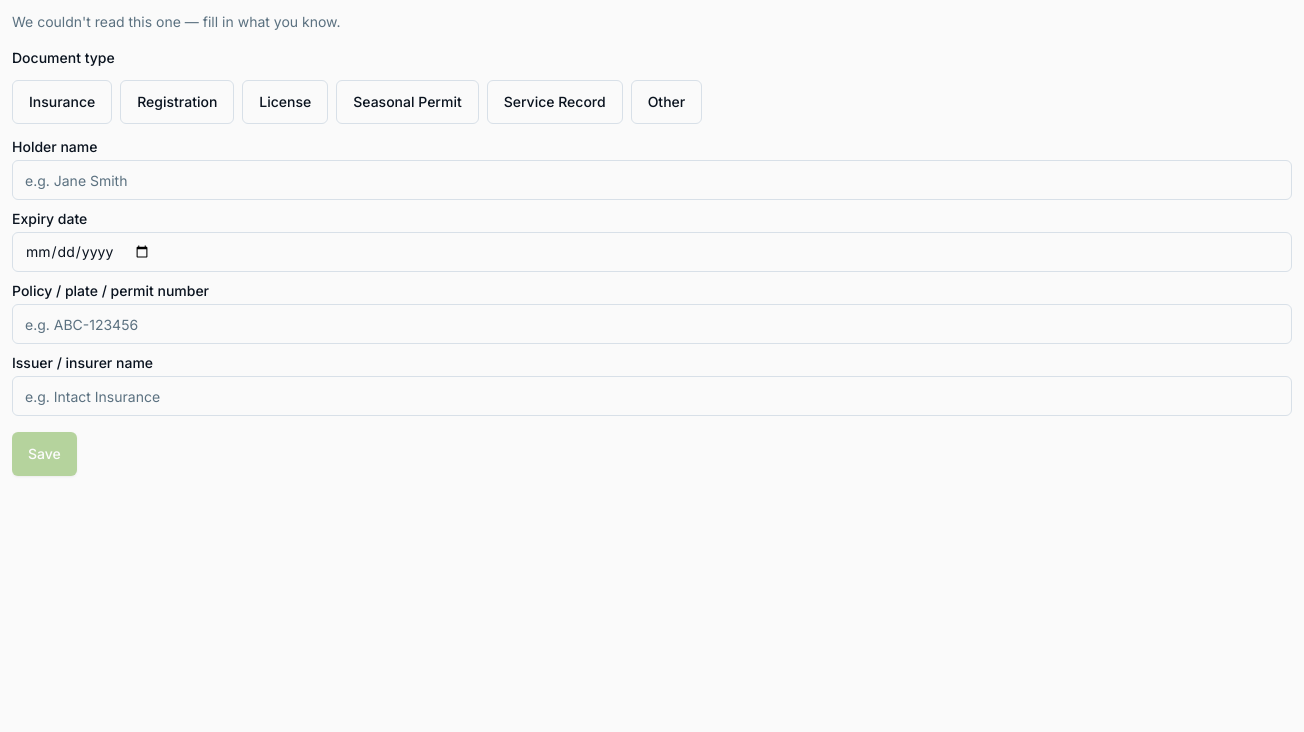
Test: ManualEntryForm › shows error message when saveDocument returns failure
This screenshot has width=1304, height=732.
Click the button "Insurance" at (62, 102), box [12, 80, 112, 124]
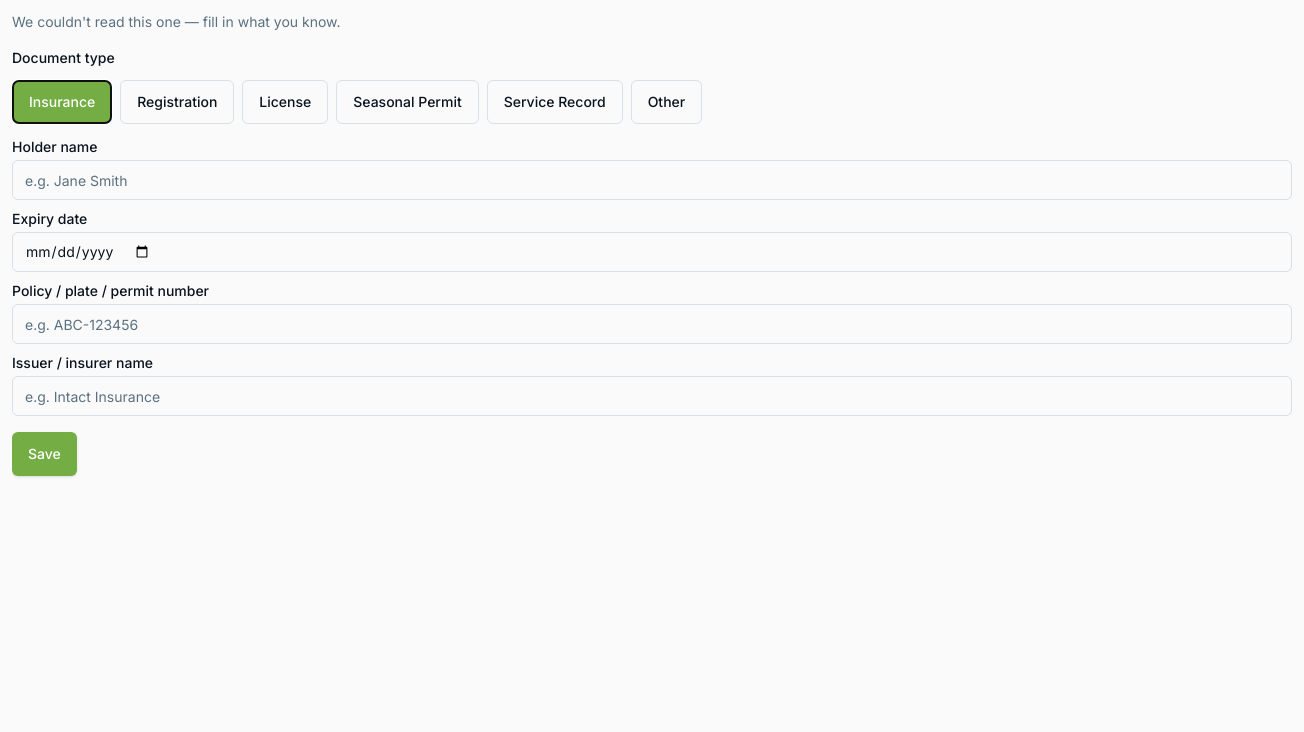
Click the button "Save" at (44, 454), box [12, 432, 77, 476]
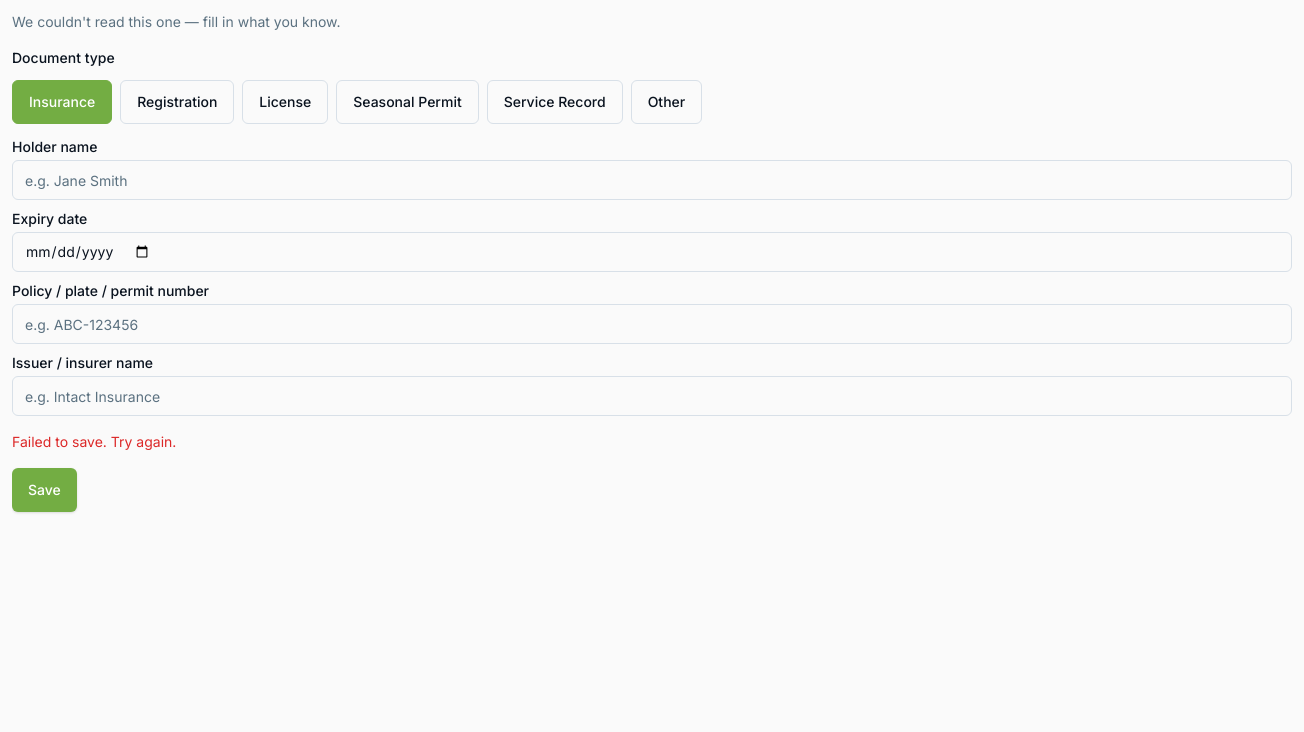
Now the message reads "Failed to save. Try again.", box [12, 433, 176, 450]
